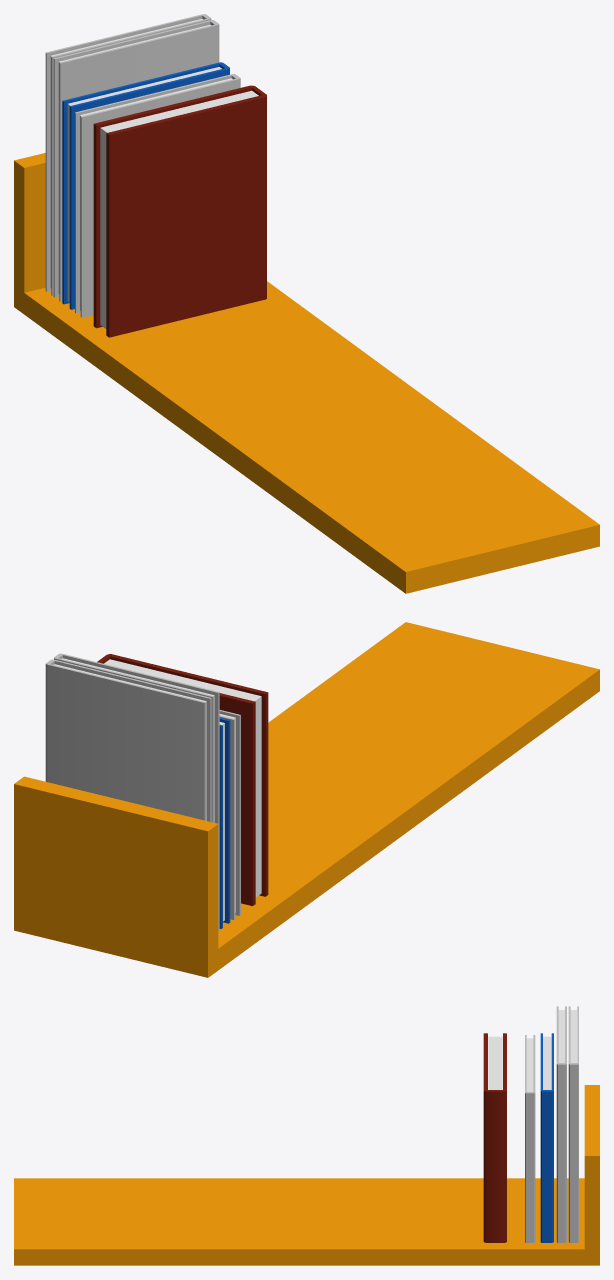
File: bookcase.fbx
3 views of the same model, one above another, from view 1: azimuth 30°, elevation 25°; view 2: azimuth 150°, elevation 25°; view 3: azimuth 270°, elevation 25° (orthographic). The views are drawn at different scales.
Visible parts, largest first — view 1: Cube.001, Cube, Cube.005, Cube.006, Cube.003, Cube.002; view 2: Cube.001, Cube.002, Cube, Cube.005, Cube.003, Cube.006; view 3: Cube.001, Cube, Cube.003, Cube.002, Cube.005, Cube.006.
Boxes of the visible parts, x1,y1,x2,y2 form: Cube.001: [14, 153, 599, 593]; Cube: [93, 85, 266, 337]; Cube.005: [53, 20, 219, 301]; Cube.006: [75, 74, 240, 317]; Cube.003: [62, 62, 229, 309]; Cube.002: [45, 14, 211, 295]; Cube.001: [14, 622, 599, 977]; Cube.002: [45, 659, 211, 821]; Cube: [97, 654, 268, 906]; Cube.005: [54, 653, 219, 930]; Cube.003: [219, 717, 230, 928]; Cube.006: [219, 710, 240, 919]; Cube.001: [14, 1085, 599, 1265]; Cube: [483, 1033, 506, 1242]; Cube.003: [540, 1033, 553, 1242]; Cube.002: [568, 1006, 578, 1242]; Cube.005: [556, 1006, 566, 1242]; Cube.006: [525, 1035, 535, 1242].
Bounding box in the file's own units: 110 × 141 × 384.
6 materials, 6 textured.
